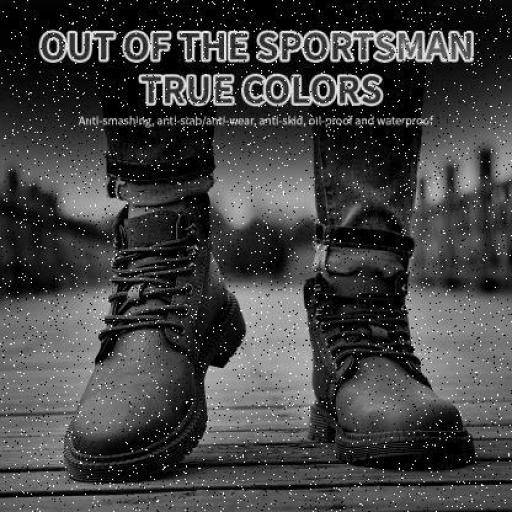safety_shoe: (97, 201, 227, 464), (305, 273, 473, 473)
